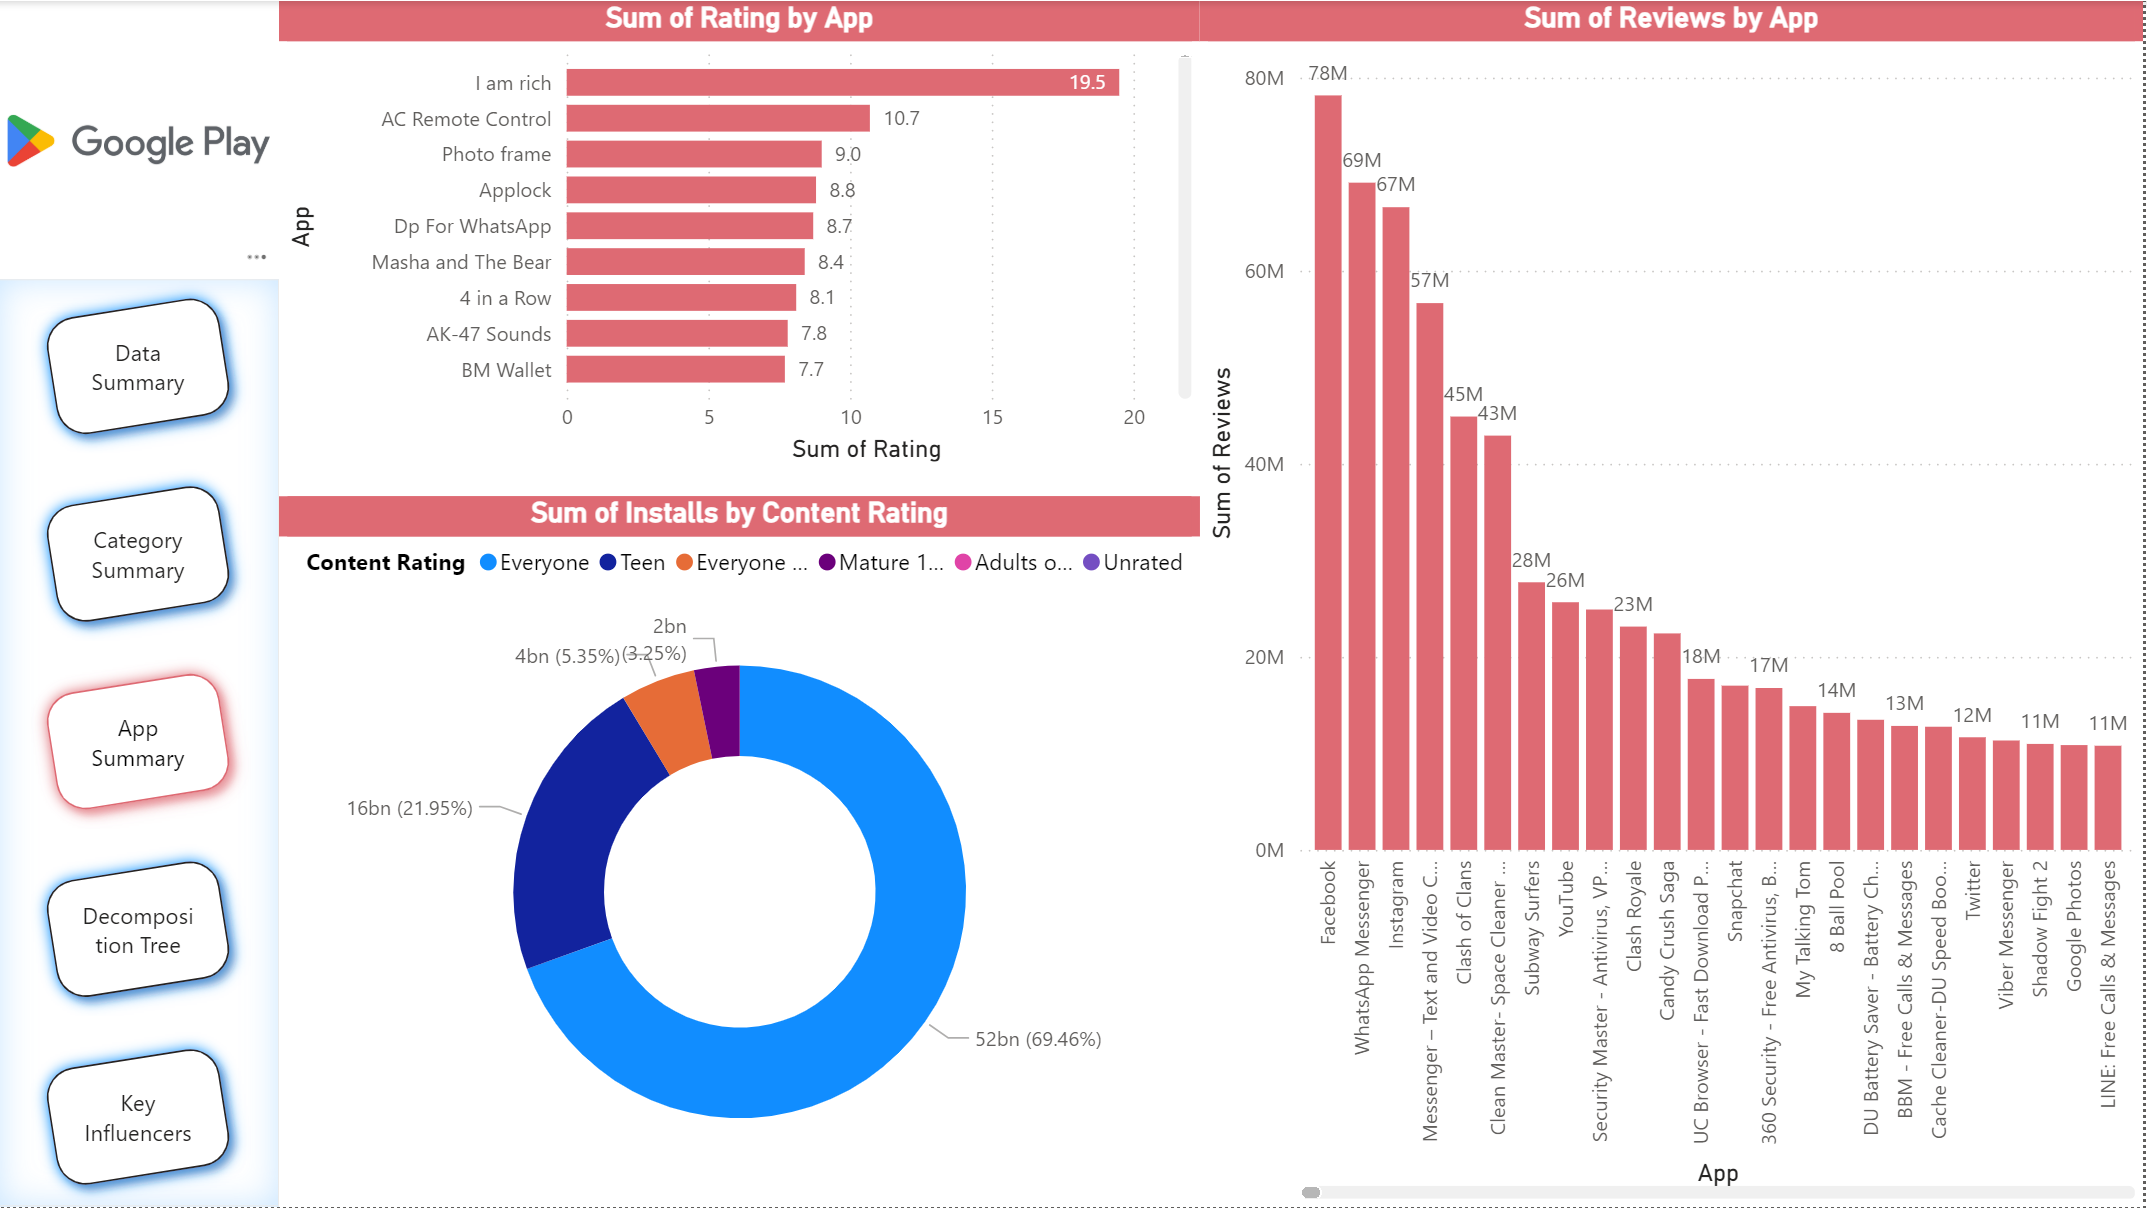

This screenshot's page, from the dashboard's own definition file:
{"tool":"powerbi","page":{"name":"App Summary","canvas":[1280,720],"ordinal":2},"visuals":[{"type":"clusteredBarChart","fields":{"Category":["Play Store Data.App"],"Y":["Sum(Play Store Data.Rating)"]},"box":[166.7,0,549.7,279.8],"z":0},{"type":"image","box":[0,0,166.7,166.7],"z":1000},{"type":"columnChart","fields":{"Category":["Play Store Data.App"],"Y":["Sum(Play Store Data.Reviews)"]},"box":[716.4,0,563.4,720.1],"z":2000},{"type":"donutChart","fields":{"Y":["Sum(Play Store Data.Installs)"],"Category":["Play Store Data.Content Rating"]},"box":[166.7,296,549.7,424.1],"z":3000},{"type":"pageNavigator","box":[0,166.5,166.7,553.5],"z":4000}]}

Visuals, with their boxes on the page's 1280x720 design canvas (x1, y1, x2, y2). These are canvas units, not pixel positions in the 2147x1208 screenshot, which may show the page scaled, cropped or inside an application window:
clusteredBarChart - Play Store Data.App x Sum(Play Store Data.Rating): x1=167, y1=0, x2=716, y2=280
image: x1=0, y1=0, x2=167, y2=167
columnChart - Play Store Data.App x Sum(Play Store Data.Reviews): x1=716, y1=0, x2=1280, y2=720
donutChart - Sum(Play Store Data.Installs) x Play Store Data.Content Rating: x1=167, y1=296, x2=716, y2=720
pageNavigator: x1=0, y1=166, x2=167, y2=720
